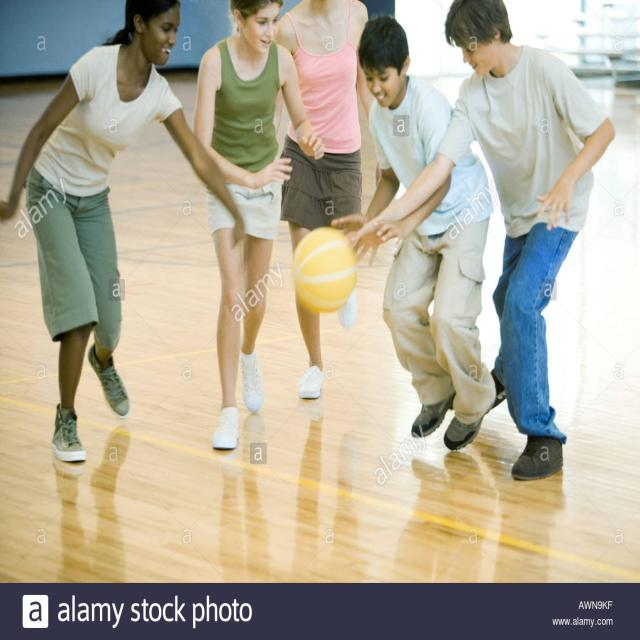body: (345, 0, 618, 485), (0, 0, 250, 469), (51, 416, 574, 583), (328, 10, 501, 456), (190, 0, 326, 457), (274, 0, 376, 401)
